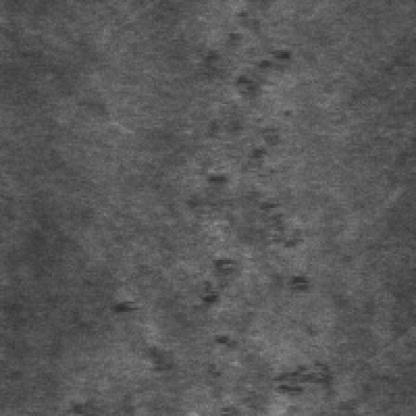rolled-in_scale: (198, 141, 312, 410), (198, 0, 293, 127), (248, 343, 343, 414)
